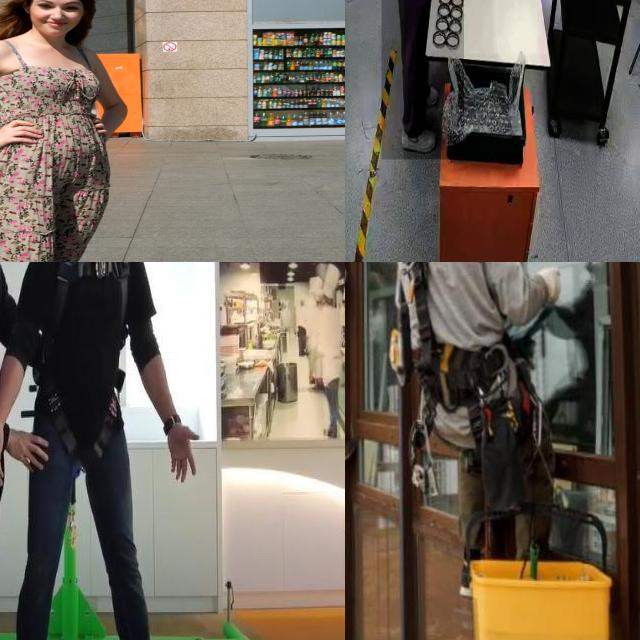Harness: (34, 262, 133, 474), (402, 262, 485, 412)
person: (381, 0, 464, 160)
shoes: (398, 118, 438, 156)
